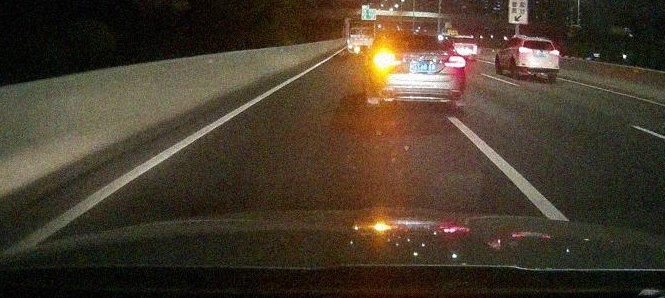L_light: (377, 52, 402, 67), (519, 46, 533, 53)
R_light: (444, 55, 465, 68), (549, 49, 560, 55)
T_light: (411, 35, 428, 38), (535, 40, 544, 42)
night-left: (374, 33, 466, 106)
night-no: (518, 37, 560, 81)
